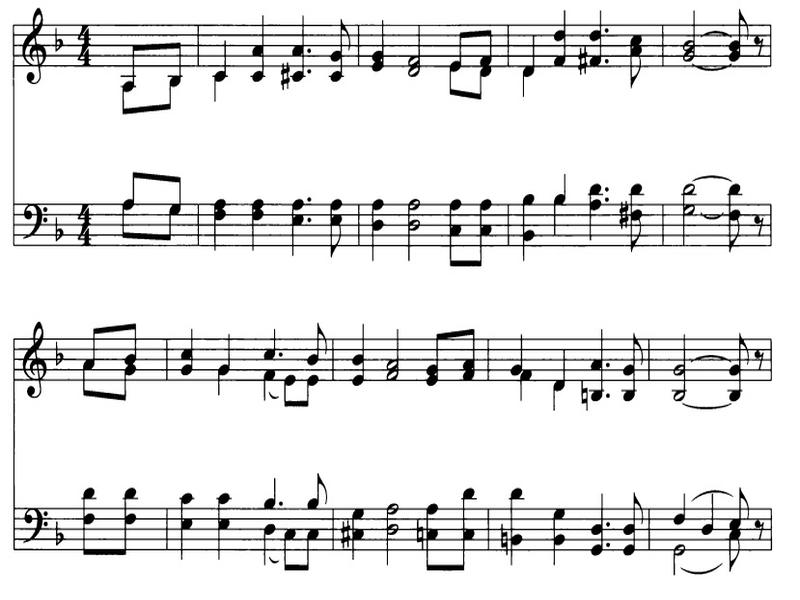B: (395, 195, 426, 264), (379, 492, 406, 570), (672, 322, 692, 403), (403, 17, 426, 80), (384, 329, 410, 384), (676, 182, 696, 250), (684, 3, 700, 62), (670, 542, 686, 580)
Bem: (48, 518, 68, 551), (51, 335, 69, 366), (52, 24, 68, 54), (50, 214, 64, 247)
C: (110, 473, 145, 561), (470, 184, 500, 274), (323, 11, 357, 87), (456, 473, 481, 575), (440, 193, 468, 276), (77, 475, 104, 561), (421, 319, 450, 393), (621, 330, 649, 405), (621, 484, 647, 561), (626, 27, 656, 91), (322, 194, 347, 260), (724, 183, 747, 254), (113, 194, 145, 243), (628, 183, 650, 254), (457, 324, 482, 386), (301, 467, 333, 514), (729, 329, 749, 404), (426, 499, 446, 574), (726, 481, 757, 528), (727, 3, 751, 63), (117, 315, 143, 370), (298, 524, 327, 573), (118, 34, 141, 92), (445, 23, 471, 72), (159, 75, 189, 116), (79, 323, 107, 366), (474, 22, 500, 68), (156, 204, 183, 248), (77, 354, 100, 404), (307, 320, 332, 366), (115, 165, 139, 209), (475, 66, 499, 109), (281, 521, 299, 575), (165, 34, 184, 84), (119, 364, 143, 403), (727, 530, 745, 580), (301, 372, 322, 414), (164, 175, 186, 214), (444, 64, 467, 100), (116, 82, 139, 116), (280, 373, 295, 416)
CF: (19, 494, 52, 553), (17, 194, 49, 244)
CS: (17, 313, 50, 414), (22, 1, 47, 92)
N: (507, 479, 536, 563), (210, 472, 237, 562), (247, 11, 272, 96), (346, 318, 373, 392), (546, 491, 570, 569), (173, 485, 197, 562), (581, 493, 608, 560), (550, 2, 575, 72), (178, 315, 201, 380), (207, 192, 227, 266), (367, 6, 387, 75), (583, 176, 602, 247), (291, 4, 307, 85), (549, 334, 571, 391), (587, 3, 604, 74), (243, 190, 261, 257), (351, 503, 372, 559), (519, 22, 540, 77), (505, 322, 527, 374), (588, 315, 607, 374), (519, 192, 535, 262), (257, 307, 277, 362), (368, 194, 384, 262), (696, 494, 721, 534), (216, 320, 234, 375), (255, 524, 275, 570), (672, 484, 694, 525), (550, 194, 571, 236), (211, 364, 234, 402), (291, 198, 304, 262), (213, 38, 231, 79), (521, 64, 543, 97), (547, 378, 567, 414), (258, 365, 274, 402), (211, 69, 230, 99), (263, 478, 278, 509), (555, 172, 568, 206), (518, 368, 530, 403), (591, 374, 605, 404)
P: (277, 500, 290, 514), (300, 67, 315, 79), (303, 194, 317, 206), (303, 216, 317, 228), (605, 541, 617, 553), (605, 520, 616, 533), (278, 351, 288, 364), (307, 44, 315, 57)
SN: (754, 208, 772, 241), (751, 517, 769, 546), (750, 347, 767, 374), (752, 32, 768, 57)
SOS: (409, 517, 427, 554), (614, 202, 632, 232), (577, 45, 592, 79), (277, 62, 293, 93), (337, 520, 352, 551), (497, 526, 511, 553)
